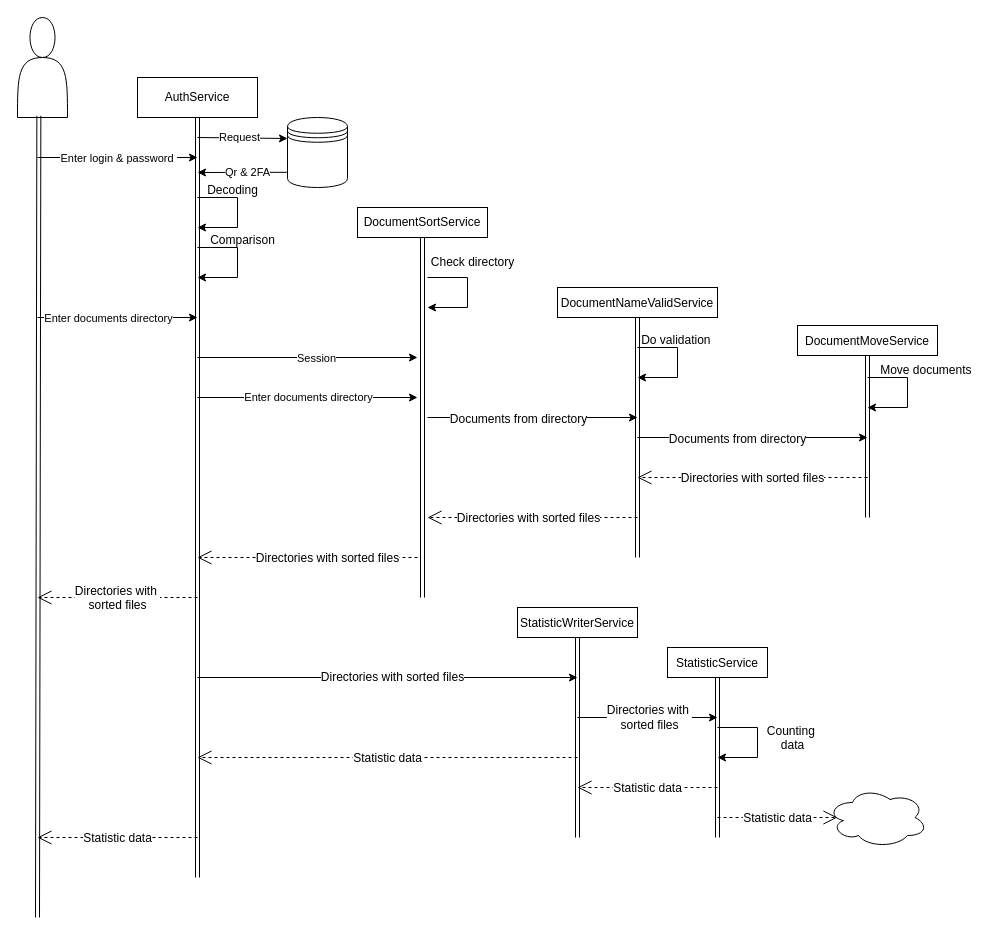
Some shapes in this 1005 by 936 pixel diagram are drawn without their labels. Each missing label, with the centre of its shape:
"Cloud" belongs at point 877,817.
"DataBase" belongs at point 317,152.
"User" belongs at point 42,67.
